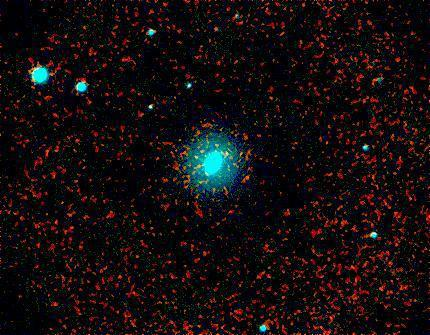star: (241, 108, 271, 138)
